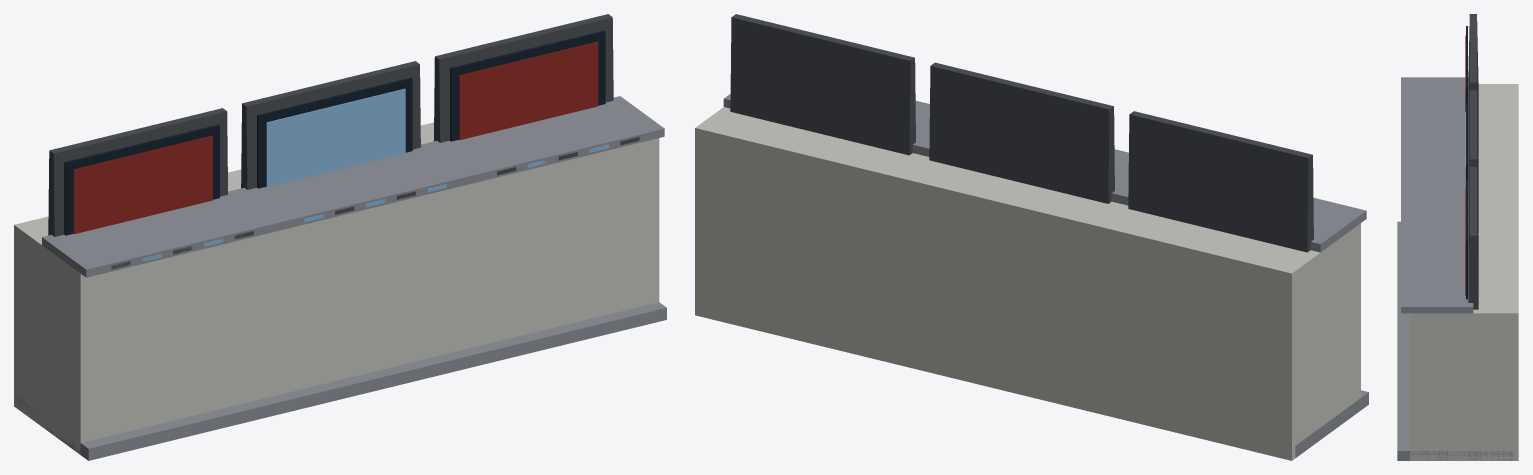
The model's file is republic_console_bank.glb.
The picture shows the model from 3 angles, left to right: view 1: azimuth 30°, elevation 25°; view 2: azimuth 150°, elevation 25°; view 3: azimuth 270°, elevation 25°; orthographic projection. The views are drawn at different scales.
Parts seen in each view (by area): view 1: republic_console_bank; view 2: republic_console_bank; view 3: republic_console_bank.
Boxes of the visible parts, bbox=[...] form: republic_console_bank: bbox=[14, 14, 666, 460]; republic_console_bank: bbox=[695, 14, 1368, 460]; republic_console_bank: bbox=[1397, 14, 1518, 460].
Size of the model in its own units: 3 by 1.35 by 0.67.
